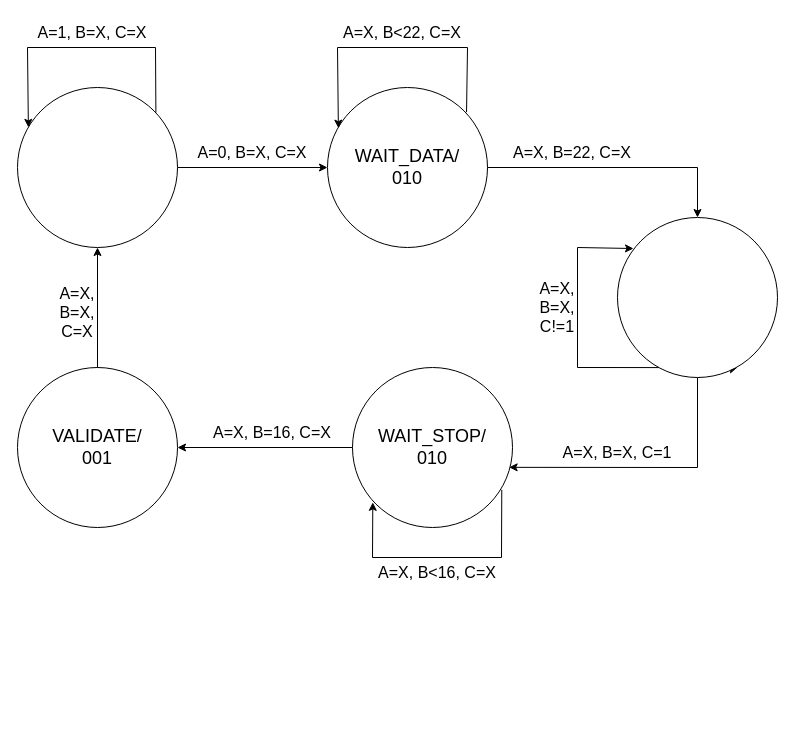
Some shapes in this 795 by 744 pixel diagram are drawn without their labels. The box of each missing label's shape, as (x1, y1, x2, y2) in pixels:
READ_DATA/ 110: (616, 216, 778, 378)
WAIT_START/ 000: (16, 86, 178, 248)
